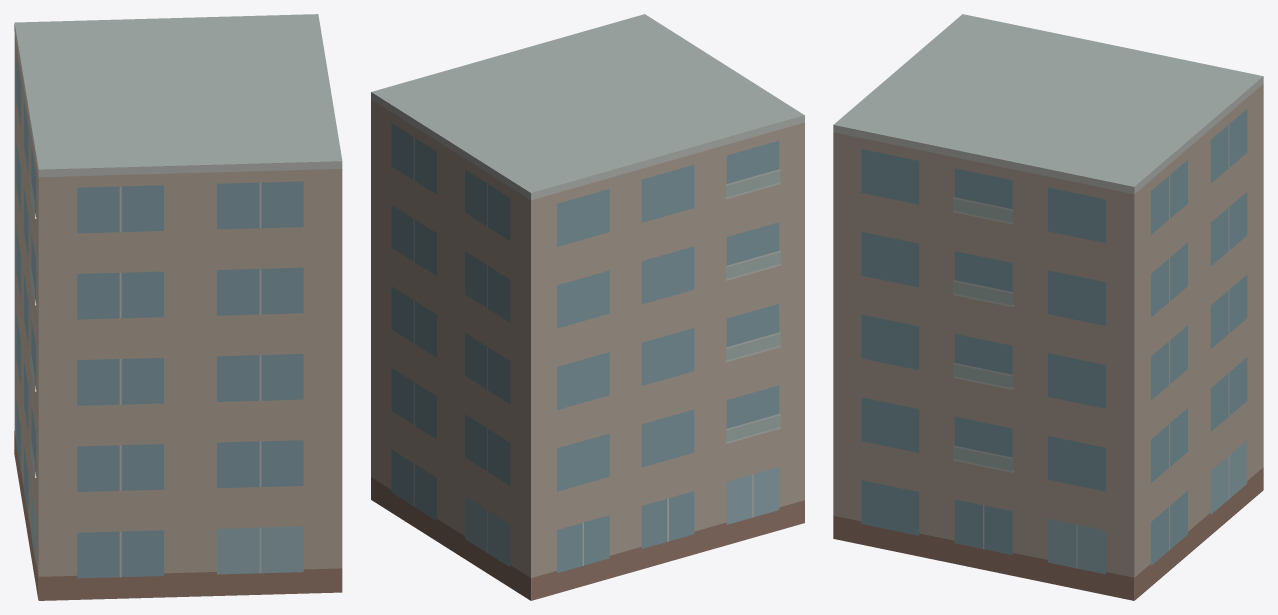
File: survey-upis-33037658.glb
3 renders of one model, left to right at view 1: azimuth 30°, elevation 25°; view 2: azimuth 150°, elevation 25°; view 3: azimuth 270°, elevation 25°, orthographic. The views are drawn at different scales.
Parts seen in each view (by area): view 1: survey-upis-33037658.tmp; view 2: survey-upis-33037658.tmp; view 3: survey-upis-33037658.tmp.
Part boxes in pixels (bbox=[...]): survey-upis-33037658.tmp: bbox=[14, 14, 342, 600]; survey-upis-33037658.tmp: bbox=[371, 14, 804, 600]; survey-upis-33037658.tmp: bbox=[833, 14, 1263, 600].
Size of the model in its own units: 12.28 by 13.7 by 12.92.
